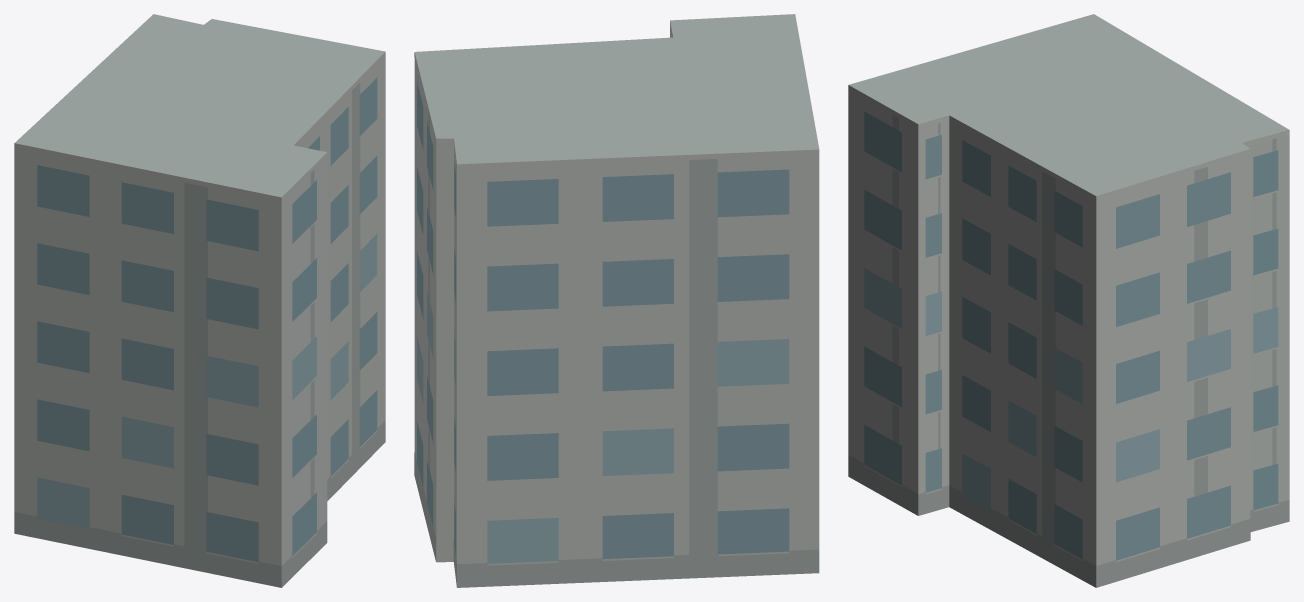
The model's file is survey-upis-33041166.glb.
The picture shows the model from 3 angles, left to right: view 1: azimuth 30°, elevation 25°; view 2: azimuth 150°, elevation 25°; view 3: azimuth 270°, elevation 25°; orthographic projection. The views are drawn at different scales.
Parts seen in each view (by area): view 1: survey-upis-33041166.tmp; view 2: survey-upis-33041166.tmp; view 3: survey-upis-33041166.tmp.
Boxes of the visible parts, x1=… form: survey-upis-33041166.tmp: x1=14, y1=14, x2=385, y2=587; survey-upis-33041166.tmp: x1=414, y1=14, x2=819, y2=587; survey-upis-33041166.tmp: x1=848, y1=14, x2=1289, y2=587.
Size of the model in its own units: 19.76 by 19.8 by 20.22.
